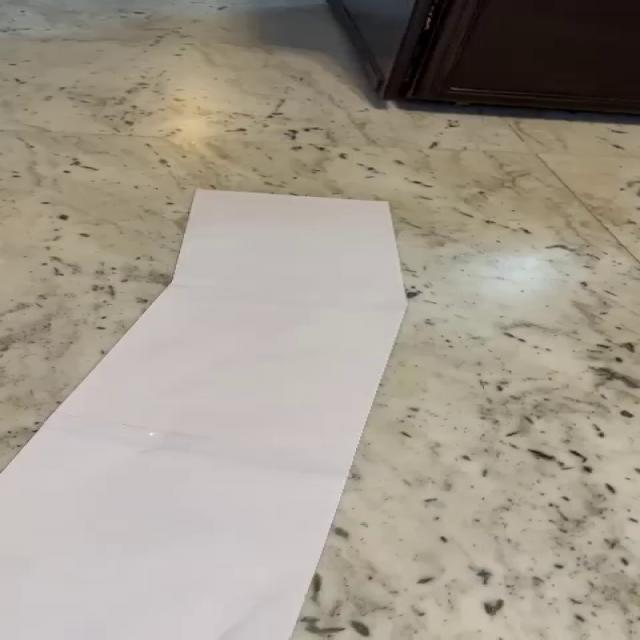road: (1, 190, 407, 640)
